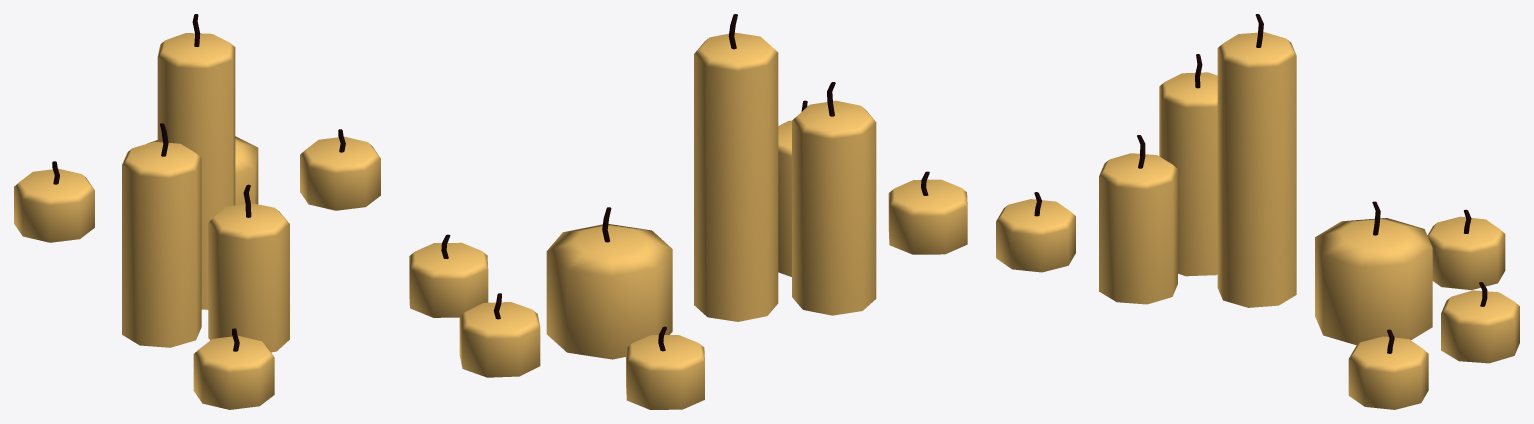
The model's file is SM_Bougie_GroupA.fbx.
3 views of the same model, side by side, from view 1: azimuth 30°, elevation 25°; view 2: azimuth 150°, elevation 25°; view 3: azimuth 270°, elevation 25° (orthographic). The views are drawn at different scales.
Parts seen in each view (by area): view 1: polySurface32; view 2: polySurface32; view 3: polySurface32.
Part boxes in pixels (x1,y1,x2,y2): polySurface32: (14, 14, 380, 409); polySurface32: (409, 14, 967, 409); polySurface32: (996, 14, 1519, 409).
Size of the model in its own units: 18.71 by 14.09 by 24.19.
